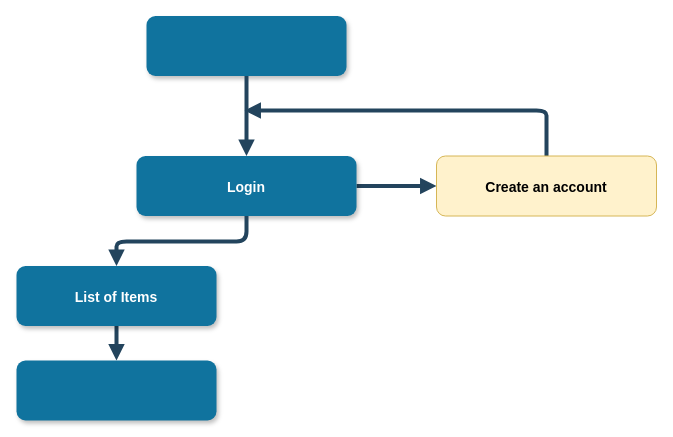
Image size: 673x437. Some labels were removed from this diagram. Each missing label, with the centre of its shape:
App: the point at 247,47
Specific Item: the point at 117,391
